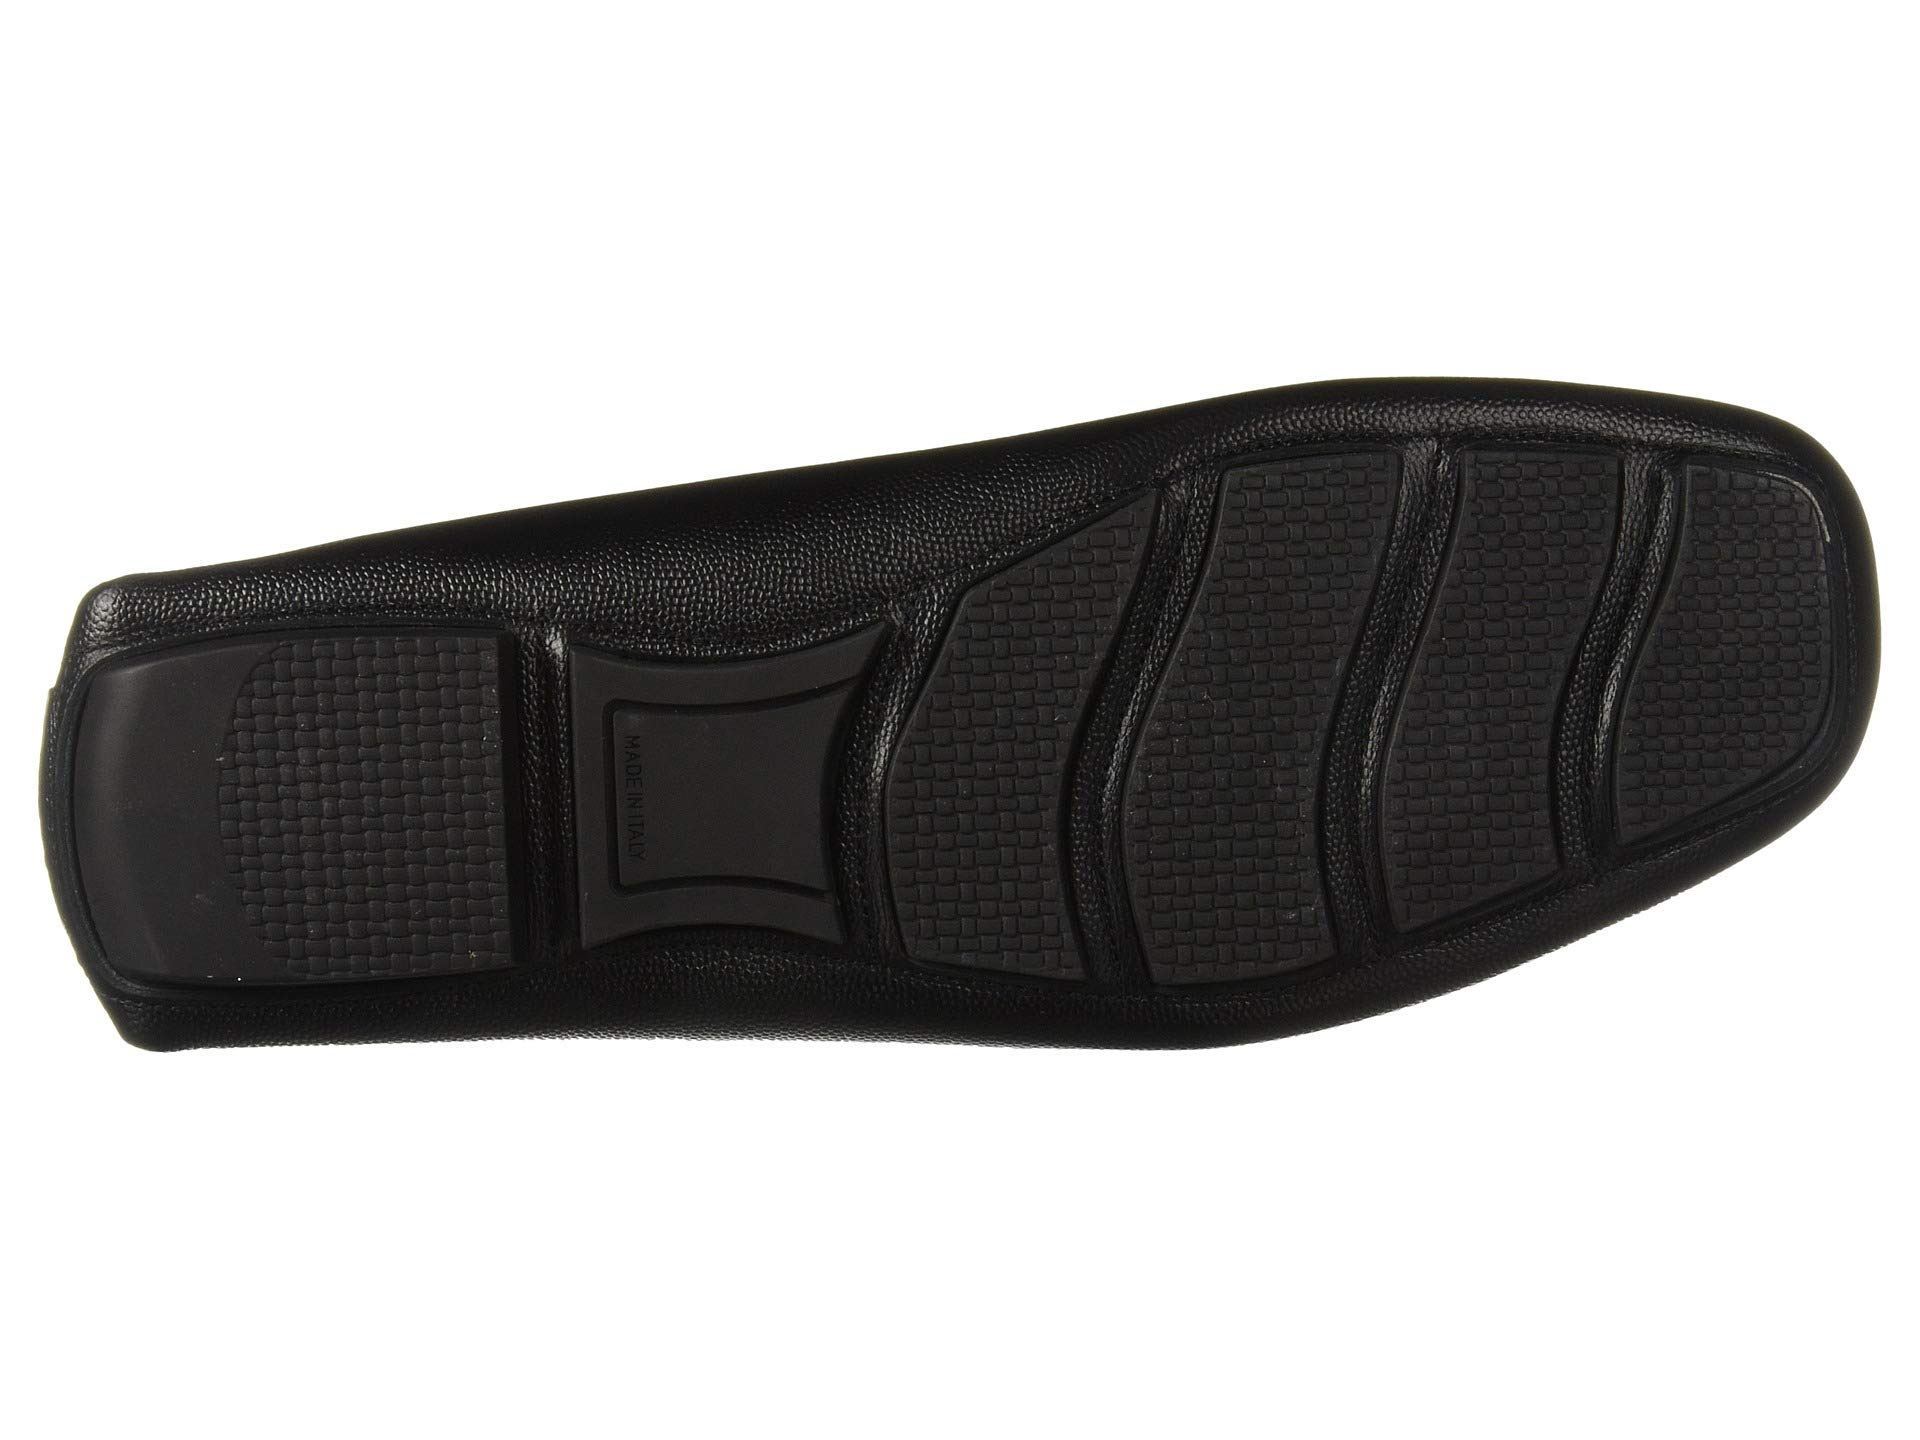line: (1110, 445, 1627, 936)
quad: (1110, 445, 1627, 936), (556, 619, 869, 976), (224, 635, 469, 933)
text: (556, 619, 869, 976)
